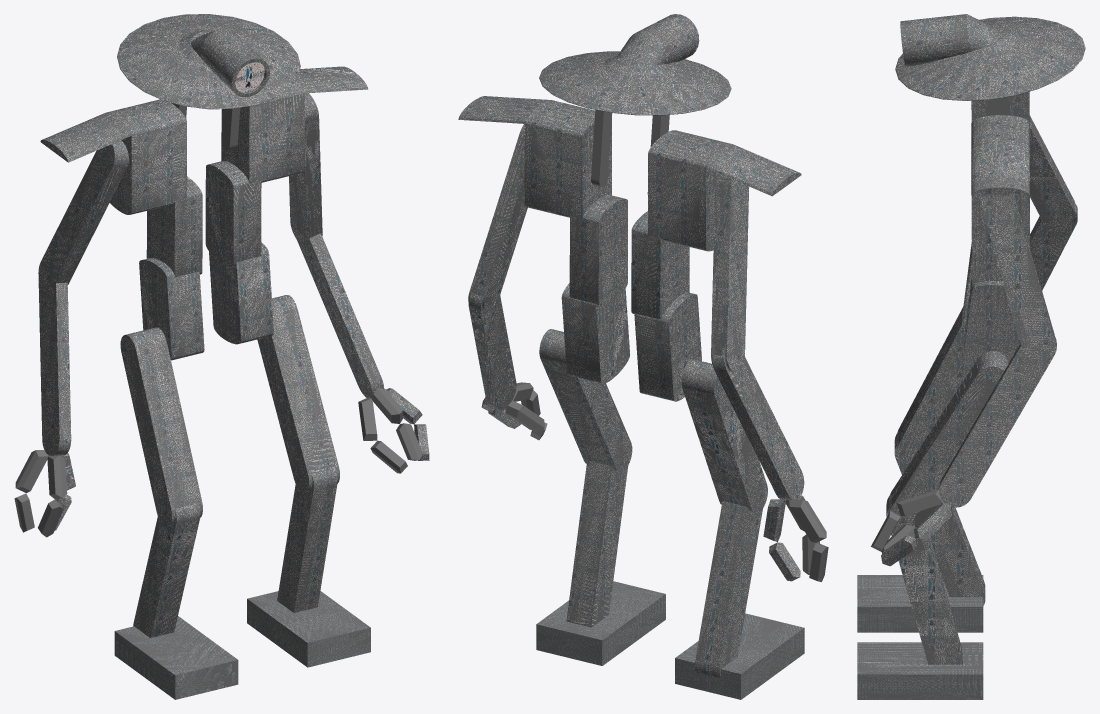
File: robot3.fbx
3 views of the same model, side by side, from view 1: azimuth 30°, elevation 25°; view 2: azimuth 150°, elevation 25°; view 3: azimuth 270°, elevation 25° (orthographic). The views are drawn at different scales.
Visible parts, largest first — view 1: Group1; view 2: Group1; view 3: Group1.
Boxes of the visible parts, <box> form: Group1: <box>14,14,429,699</box>; Group1: <box>458,14,828,699</box>; Group1: <box>857,14,1085,699</box>.
Size of the model in its own units: 7.04 by 11.15 by 3.64.
